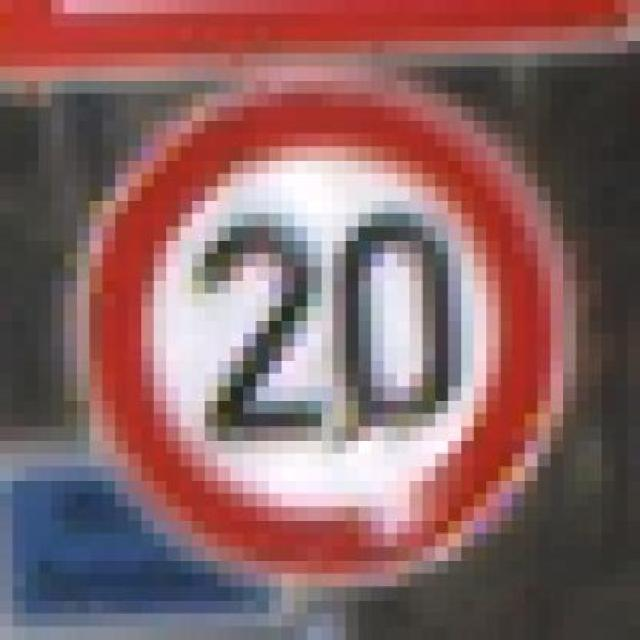forb_speed_over_20: (87, 82, 562, 585)
